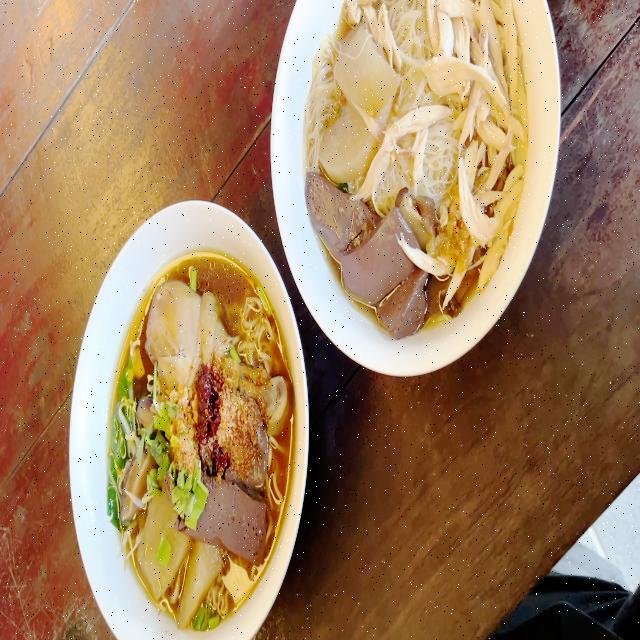boiled_chicken_blood_jelly: (300, 165, 375, 266), (206, 477, 264, 564), (346, 215, 404, 298), (242, 390, 272, 487), (390, 276, 424, 330)
chicken_drumstick: (142, 278, 292, 437)
chicken_shredded: (440, 0, 527, 293)
daikon_radish: (331, 26, 396, 124), (126, 500, 188, 602), (323, 112, 378, 178), (188, 540, 217, 614)
noodle: (301, 0, 541, 332), (105, 253, 297, 615)
